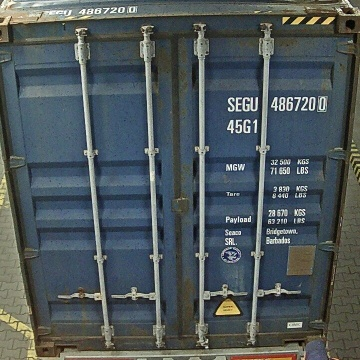serial_id: (228, 96, 327, 111)
